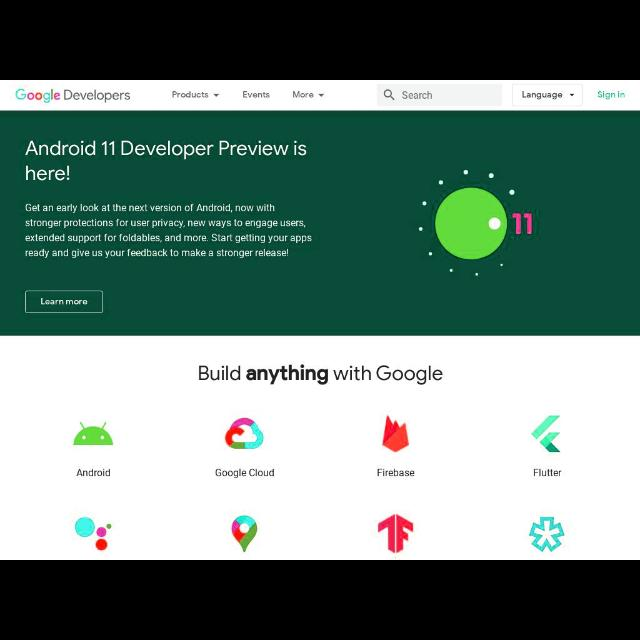icon: (383, 89, 395, 101), (212, 93, 220, 97), (318, 94, 324, 98), (569, 93, 575, 97)
image: (418, 170, 532, 278), (15, 88, 130, 104), (378, 514, 414, 552), (529, 516, 565, 552), (224, 418, 264, 450), (75, 517, 112, 551), (530, 416, 562, 452), (382, 416, 410, 452), (73, 422, 114, 446), (232, 516, 258, 552)
input: (378, 84, 502, 106)
panel: (1, 112, 639, 336), (1, 336, 639, 558)
spinner: (513, 84, 583, 106), (172, 92, 220, 98), (293, 92, 325, 98)
text: (26, 204, 312, 258), (26, 140, 306, 180), (199, 365, 443, 385), (216, 468, 274, 478), (522, 90, 562, 100), (402, 90, 432, 100), (378, 469, 414, 477), (41, 298, 88, 304), (77, 469, 111, 477), (598, 90, 624, 100), (534, 468, 562, 476), (172, 92, 208, 98), (242, 92, 270, 98), (292, 92, 314, 98)
textbutton: (24, 290, 104, 314)
toolbar: (0, 80, 638, 110)
